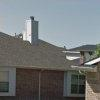Chimney: (17, 12, 40, 53)
